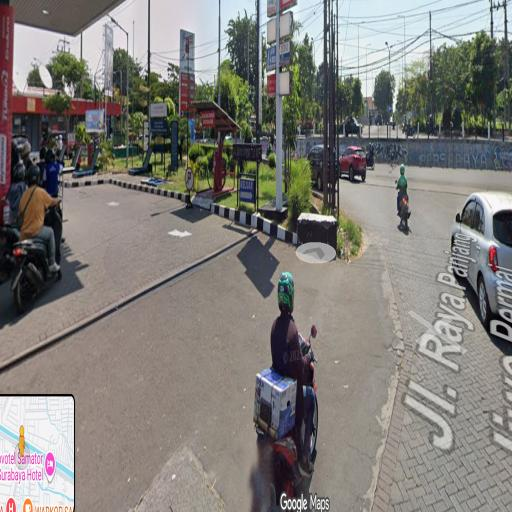Helmet: (278, 272, 294, 314), (13, 162, 26, 183), (28, 165, 40, 185), (22, 142, 31, 157), (45, 149, 54, 163), (40, 147, 46, 159), (400, 165, 405, 175), (58, 135, 62, 140)
Motor: (252, 425, 305, 511), (12, 238, 61, 314), (0, 226, 19, 284), (400, 195, 410, 231), (366, 144, 374, 169), (405, 124, 415, 138), (427, 122, 437, 136)
